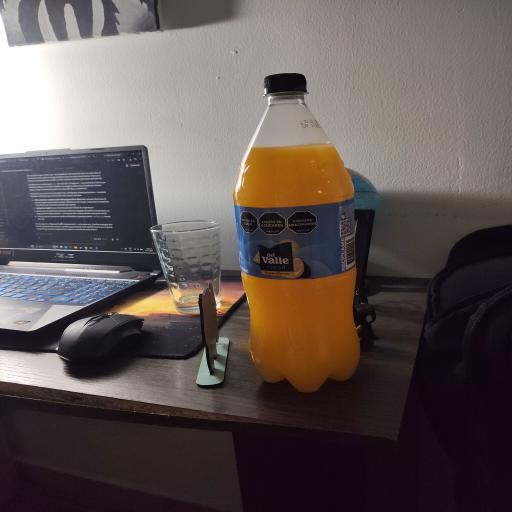Jugo del valle: (234, 74, 359, 391)
